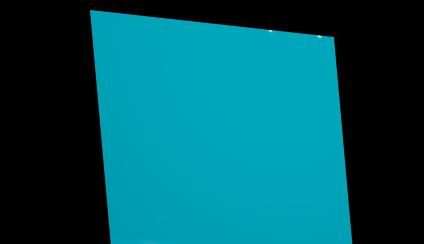boat: (265, 23, 329, 64)
drone: (275, 24, 318, 40)
